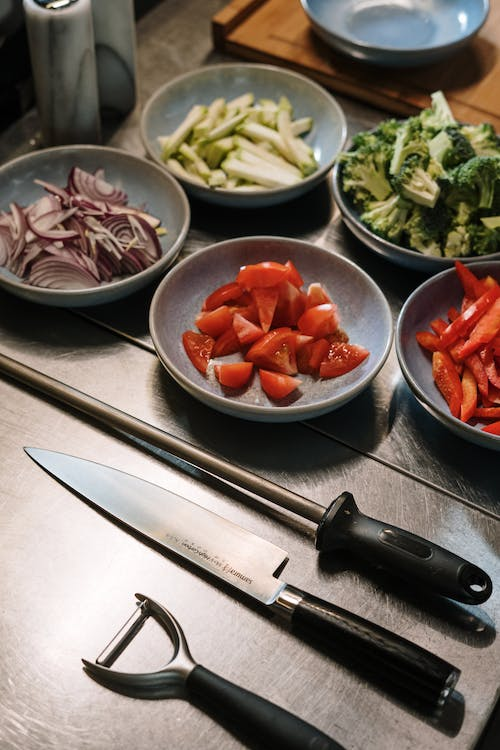knife: (21, 440, 463, 714)
